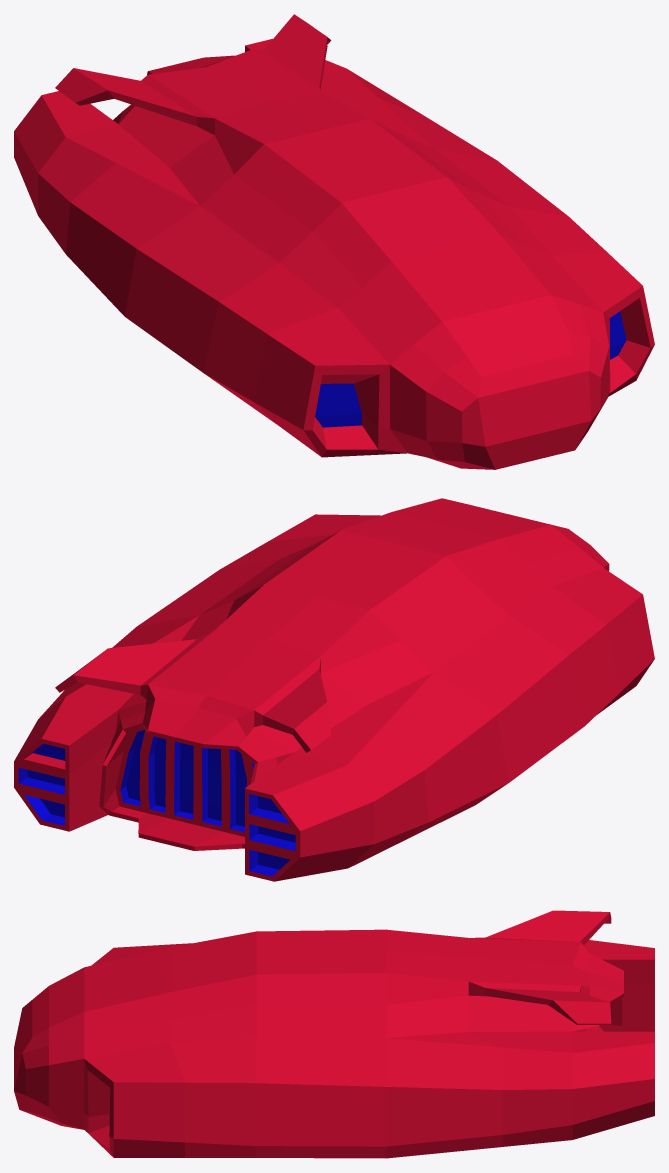
The model's file is ShipColoradoJam.fbx.
The picture shows the model from 3 angles, top to bottom: view 1: azimuth 30°, elevation 25°; view 2: azimuth 150°, elevation 25°; view 3: azimuth 270°, elevation 25°; orthographic projection. The views are drawn at different scales.
Visible parts, largest first — view 1: Cube.001; view 2: Cube.001; view 3: Cube.001.
Part boxes in pixels (bbox=[...]): Cube.001: bbox=[14, 14, 654, 469]; Cube.001: bbox=[14, 498, 654, 881]; Cube.001: bbox=[14, 910, 654, 1158].
Bounding box in the file's own units: 575 × 263 × 988.
